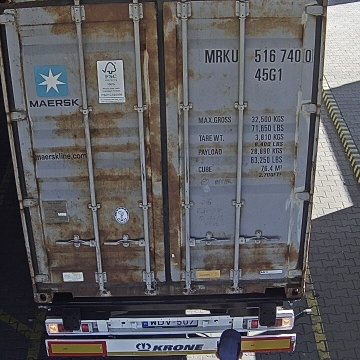serial_id: (205, 48, 313, 62)
